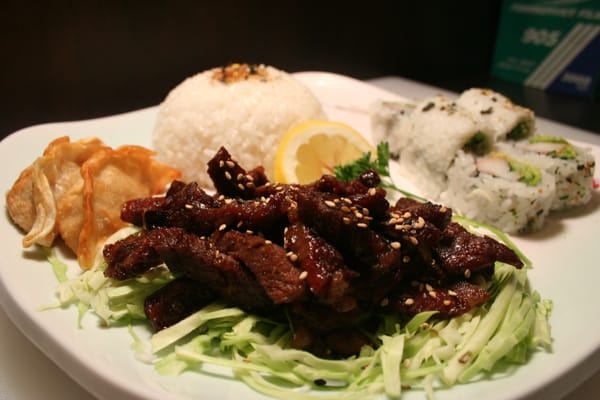soup: (8, 61, 578, 393)
taco: (272, 118, 373, 185)
